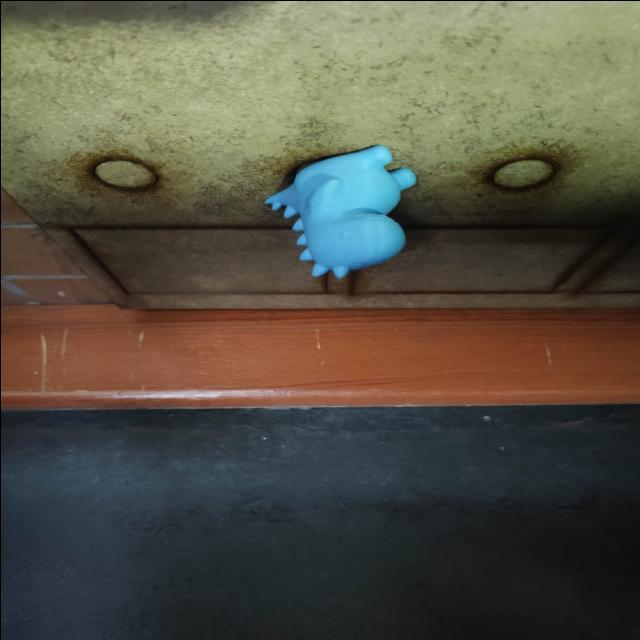DINO: (252, 138, 428, 286)
